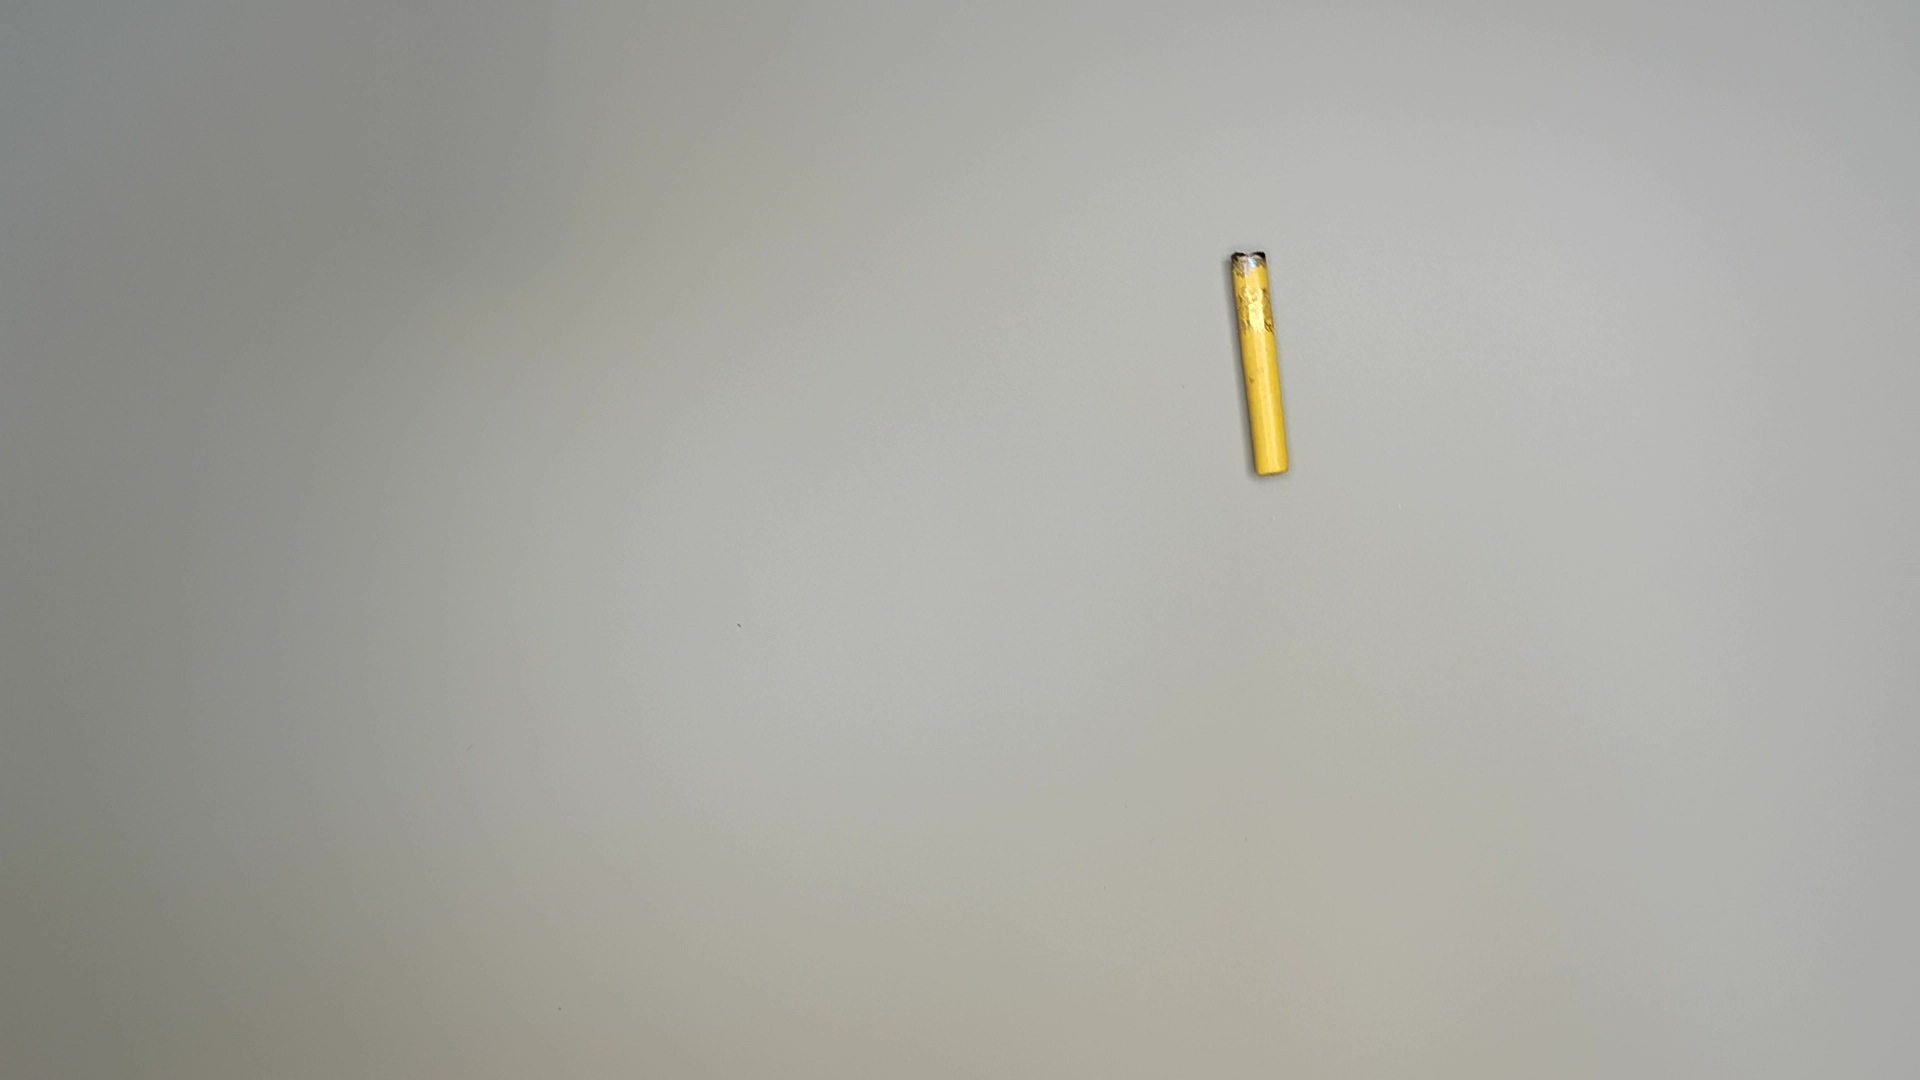cigarette: (1222, 245, 1299, 479)
